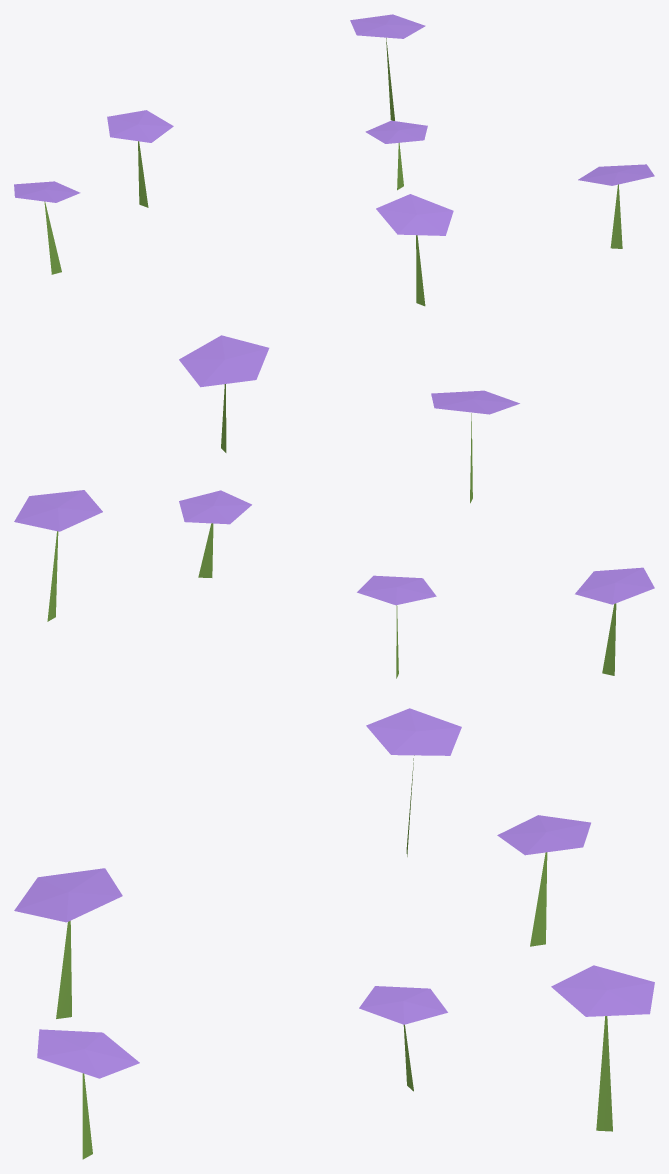
File: violets.far.glb
3 views of the same model, one above another, from view 1: azimuth 30°, elevation 25°; view 2: azimuth 150°, elevation 25°; view 3: azimuth 270°, elevation 25° (orthographic). The views are drawn at different scales.
Parts seen in each view (by area): view 1: violets; view 2: violets; view 3: violets.
Part boxes in pixels (box(x1,y1,x2,y2)): violets: box(14, 14, 654, 306); violets: box(14, 335, 654, 678); violets: box(14, 708, 654, 1159).
Size of the model in its own units: 0.4941 by 0.0902 by 0.3786.
